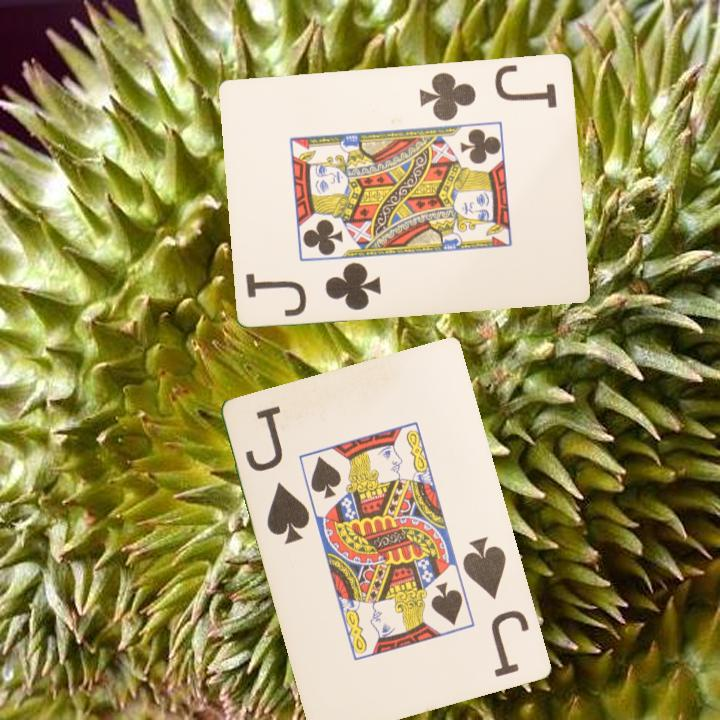Jc: (416, 61, 560, 124), (242, 258, 384, 319)
Js: (459, 533, 533, 680), (242, 402, 314, 548)
